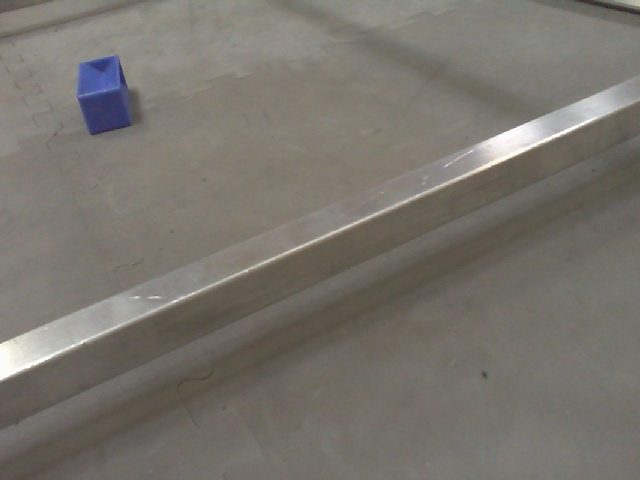BlueSample: (76, 52, 134, 136)
